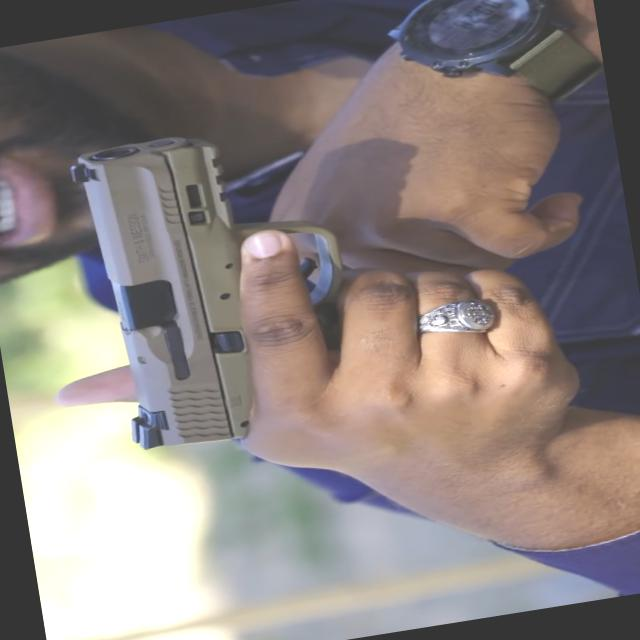handgun: (46, 74, 430, 477)
